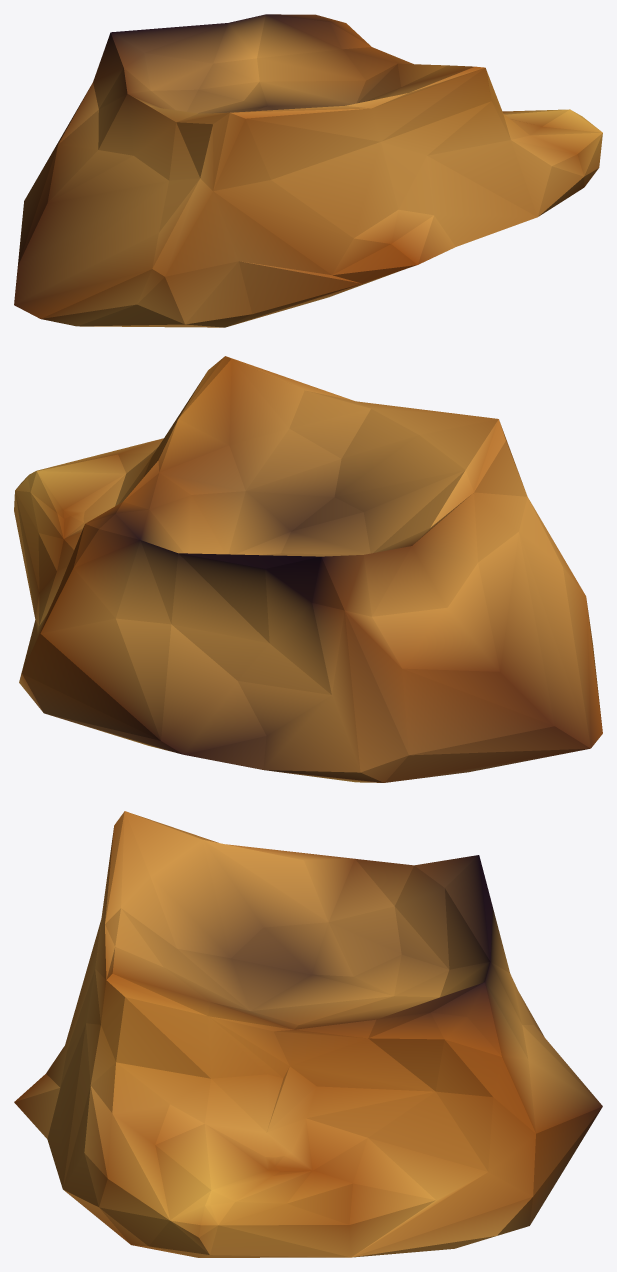
File: rock5.fbx
3 views of the same model, one above another, from view 1: azimuth 30°, elevation 25°; view 2: azimuth 150°, elevation 25°; view 3: azimuth 270°, elevation 25° (orthographic). The views are drawn at different scales.
Parts seen in each view (by area): view 1: PM3D_Cube3D3; view 2: PM3D_Cube3D3; view 3: PM3D_Cube3D3.
Boxes of the visible parts, x1,y1,x2,y2 form: PM3D_Cube3D3: [14, 14, 602, 327]; PM3D_Cube3D3: [14, 356, 602, 782]; PM3D_Cube3D3: [14, 811, 602, 1257].
Bounding box in the file's own units: 2 × 0.8068 × 1.46.
